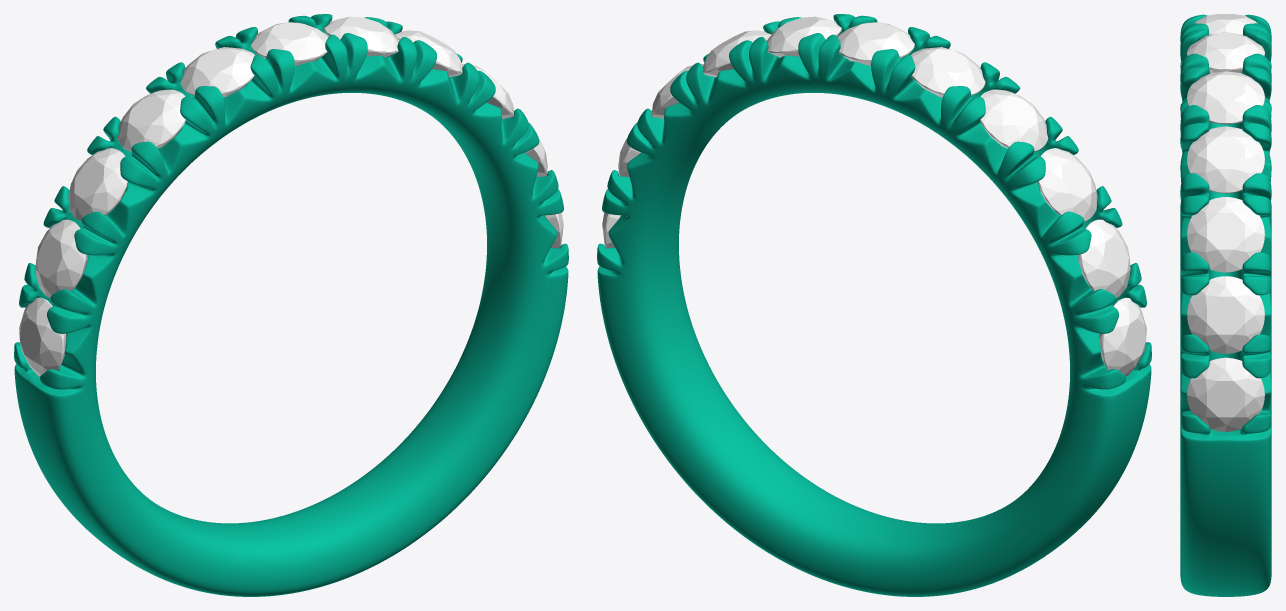
Rendered from BE2M2811LC_RENDER.glb.
3 renders of one model, left to right at view 1: azimuth 30°, elevation 25°; view 2: azimuth 150°, elevation 25°; view 3: azimuth 270°, elevation 25°, orthographic. The views are drawn at different scales.
Parts seen in each view (by area): view 1: Metal03, Diamond_Round_Gem_BD.008, Diamond_Round_Gem_BD.009, Diamond_Round_Gem_BD.007, Diamond_Round_Gem_BD.010, Diamond_Round_Gem_BD.006, Diamond_Round_Gem_BD, Diamond_Round_Gem_BD.001, Diamond_Round_Gem_BD.002; view 2: Metal03, Diamond_Round_Gem_BD.008, Diamond_Round_Gem_BD.009, Diamond_Round_Gem_BD.007, Diamond_Round_Gem_BD.010, Diamond_Round_Gem_BD.006, Diamond_Round_Gem_BD, Diamond_Round_Gem_BD.001, Diamond_Round_Gem_BD.002; view 3: Metal03, Diamond_Round_Gem_BD.004, Diamond_Round_Gem_BD.003, Diamond_Round_Gem_BD.005, Diamond_Round_Gem_BD.002, Diamond_Round_Gem_BD.001, Diamond_Round_Gem_BD, Diamond_Round_Gem_BD.010.
Part boxes in pixels (x1,y1,x2,y2): Metal03: (14, 14, 568, 596); Diamond_Round_Gem_BD.008: (68, 148, 127, 221); Diamond_Round_Gem_BD.009: (117, 89, 185, 151); Diamond_Round_Gem_BD.007: (35, 219, 87, 298); Diamond_Round_Gem_BD.010: (180, 47, 254, 97); Diamond_Round_Gem_BD.006: (19, 297, 66, 376); Diamond_Round_Gem_BD: (251, 22, 328, 65); Diamond_Round_Gem_BD.001: (324, 16, 399, 57); Diamond_Round_Gem_BD.002: (394, 30, 462, 77); Metal03: (597, 14, 1151, 596); Diamond_Round_Gem_BD.008: (1038, 148, 1097, 221); Diamond_Round_Gem_BD.009: (980, 89, 1048, 151); Diamond_Round_Gem_BD.007: (1078, 219, 1130, 298); Diamond_Round_Gem_BD.010: (911, 47, 985, 97); Diamond_Round_Gem_BD.006: (1099, 297, 1146, 376); Diamond_Round_Gem_BD: (837, 22, 914, 65); Diamond_Round_Gem_BD.001: (766, 16, 841, 57); Diamond_Round_Gem_BD.002: (703, 30, 771, 77); Metal03: (1180, 14, 1271, 596); Diamond_Round_Gem_BD.004: (1187, 276, 1264, 353); Diamond_Round_Gem_BD.003: (1187, 197, 1264, 272); Diamond_Round_Gem_BD.005: (1187, 357, 1264, 431); Diamond_Round_Gem_BD.002: (1187, 126, 1264, 193); Diamond_Round_Gem_BD.001: (1187, 71, 1264, 124); Diamond_Round_Gem_BD: (1187, 32, 1264, 73); Diamond_Round_Gem_BD.010: (1194, 14, 1257, 34).
Size of the model in its own units: 21.06 by 21 by 3.29.
